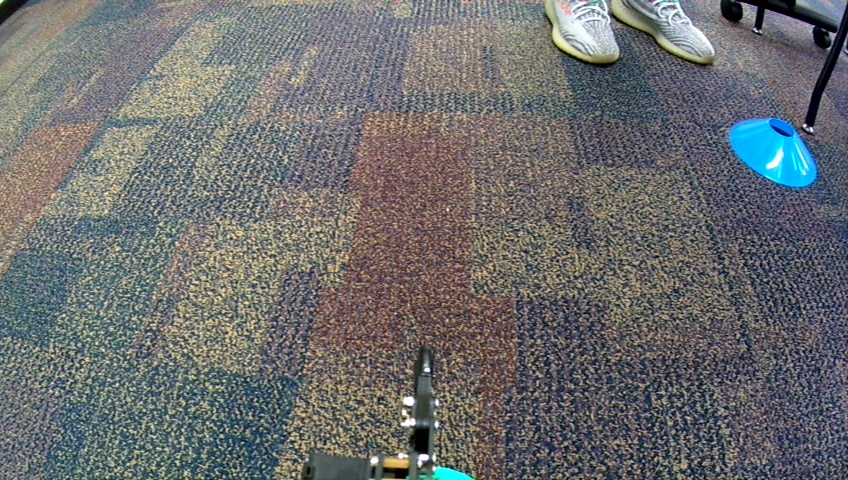cone: (727, 117, 824, 188)
